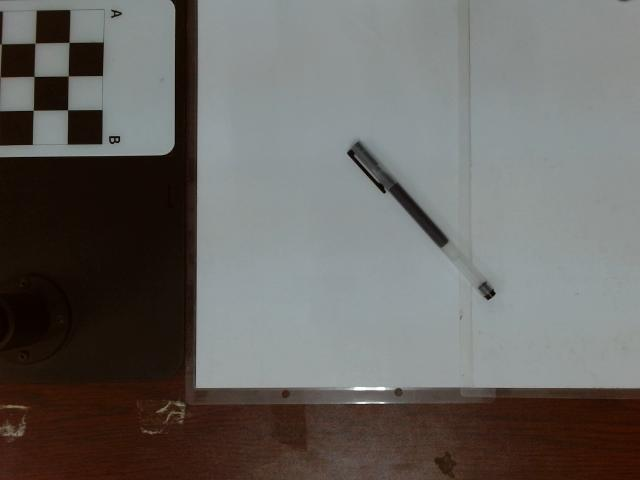PEN: (345, 139, 499, 303)
